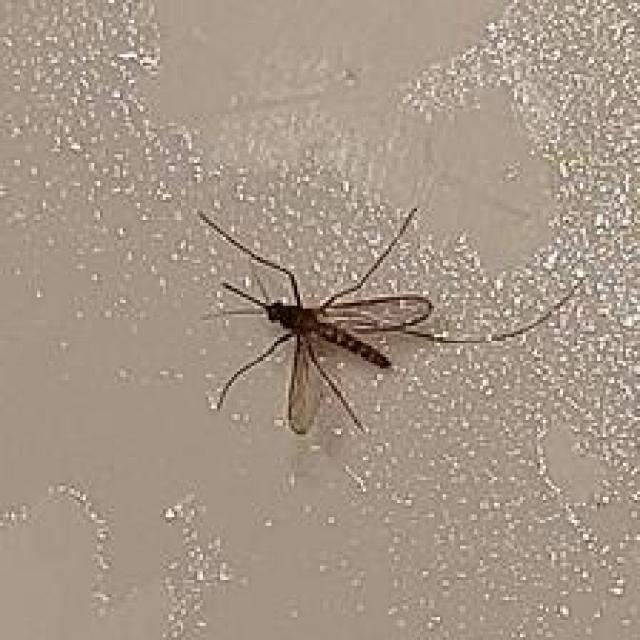Culex: (196, 204, 584, 439)
